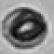correct: (2, 5, 50, 51)
